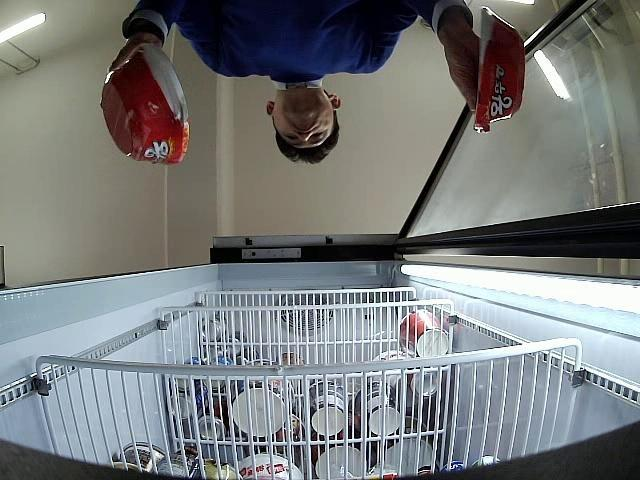10_wangTtukkeong: (102, 43, 190, 164), (474, 7, 525, 131)
